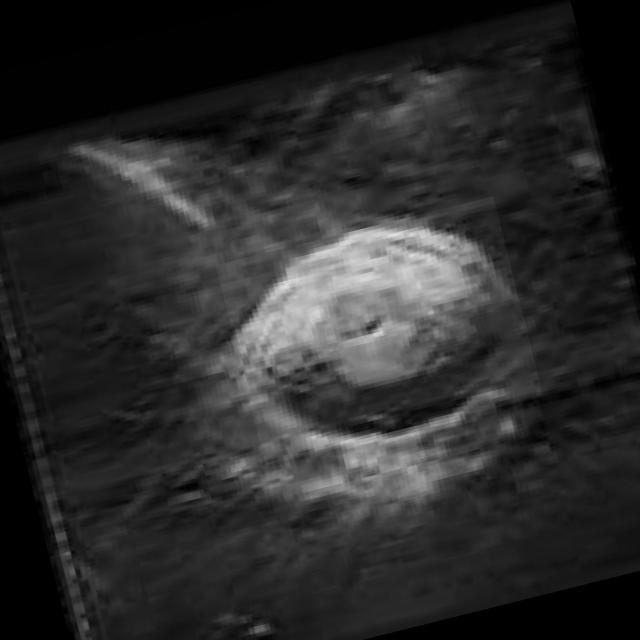crater: (216, 196, 544, 465)
